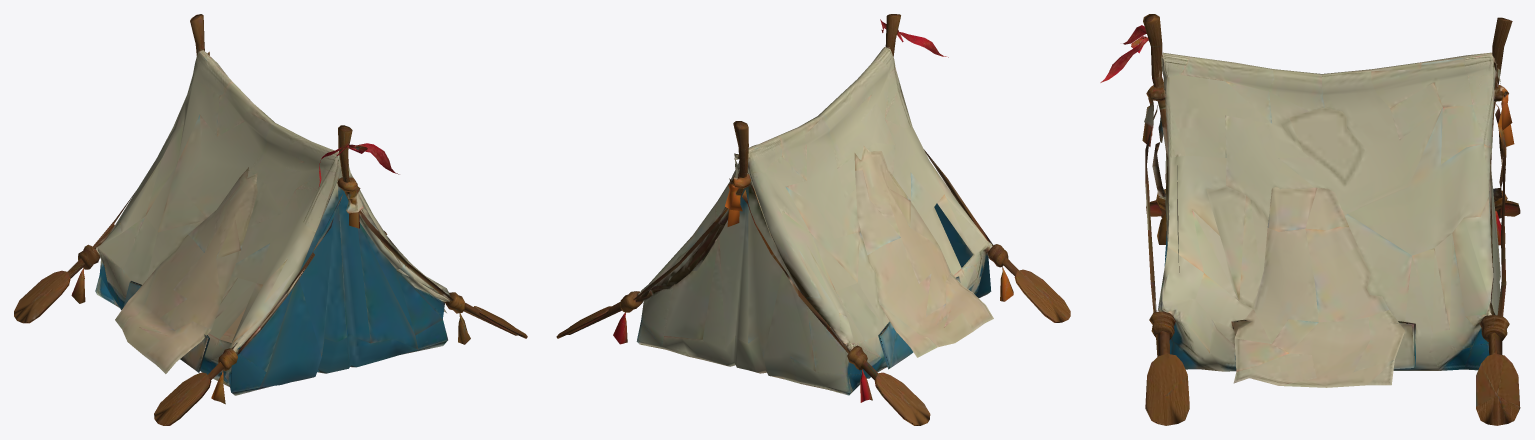
File: sail_tent.glb
3 renders of one model, left to right at view 1: azimuth 30°, elevation 25°; view 2: azimuth 150°, elevation 25°; view 3: azimuth 270°, elevation 25°, orthographic. The views are drawn at different scales.
Bounding box in the file's own units: 0.9575 × 0.6426 × 0.8081.
1 material, 1 textured.
